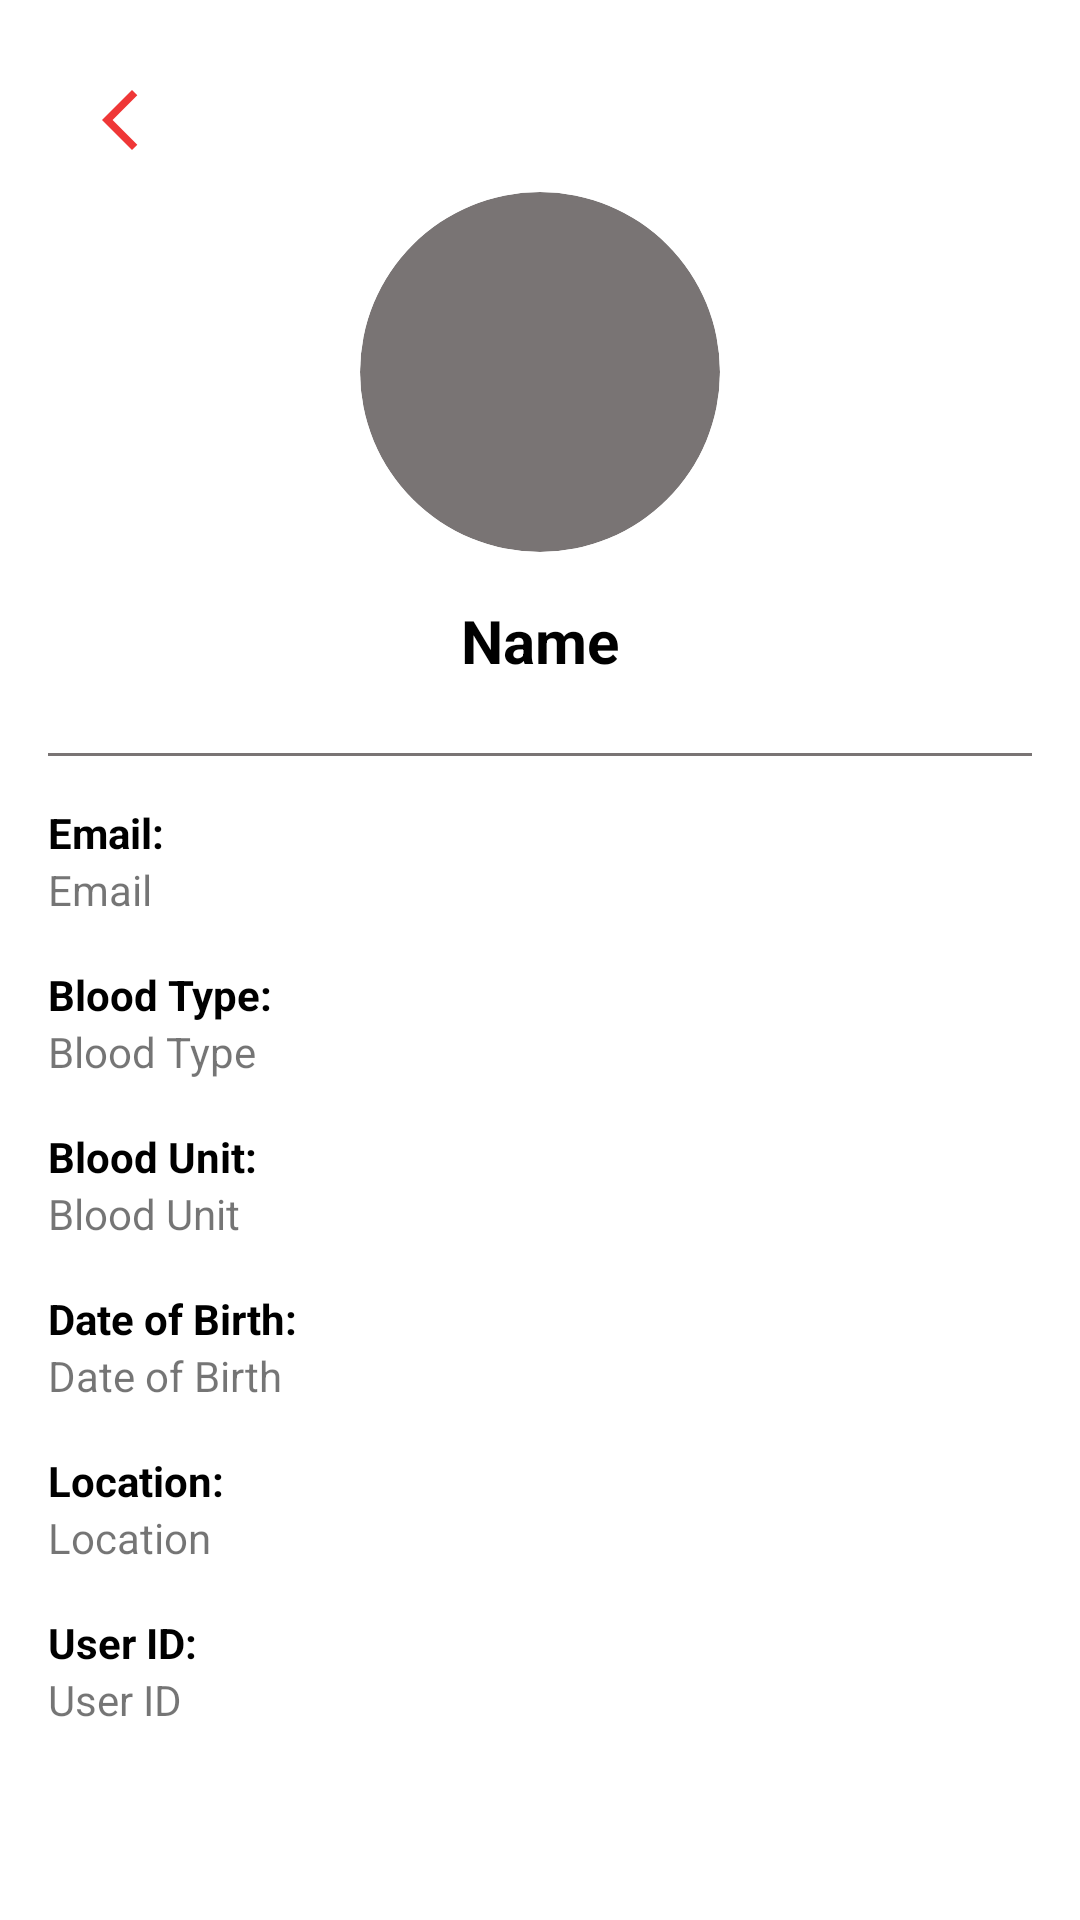

Point at icon controls on the screen. Image size 1080 x 1920, points as (x,y).
Back: (119,120)
